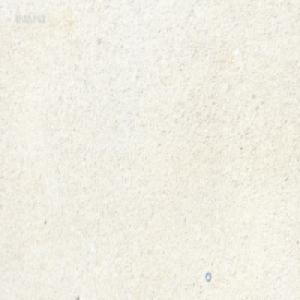Washer: (204, 270, 211, 281)
